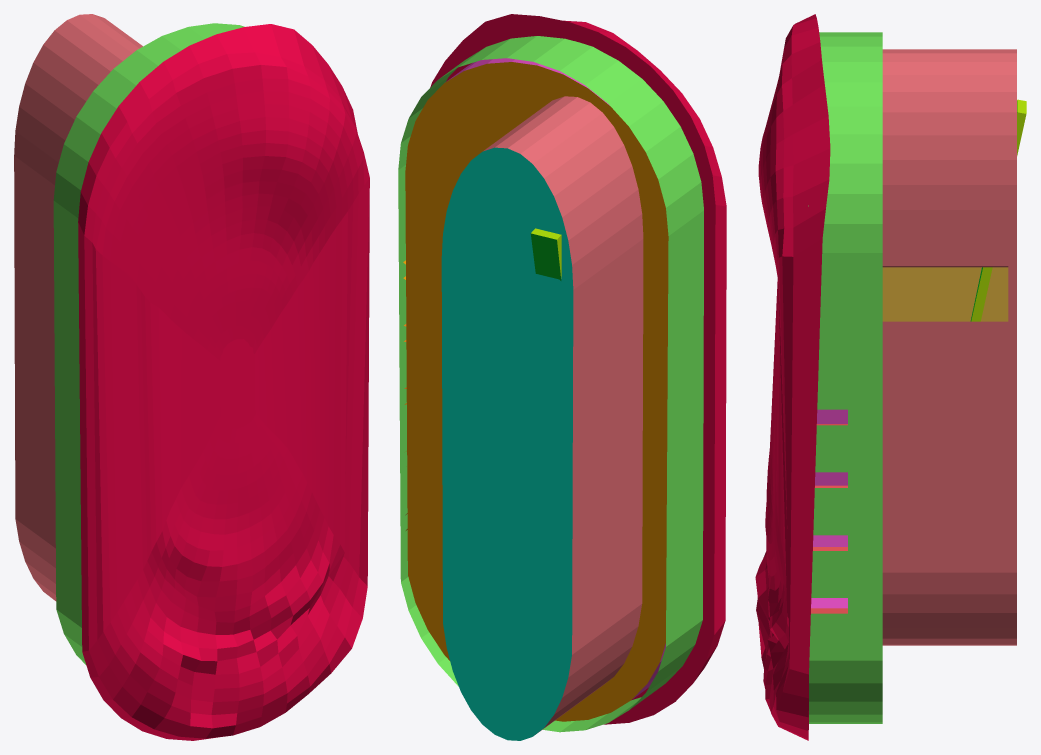
The model's file is casa32.fbx.
The picture shows the model from 3 angles, left to right: view 1: azimuth 30°, elevation 25°; view 2: azimuth 150°, elevation 25°; view 3: azimuth 270°, elevation 25°; orthographic projection.
Parts seen in each view (by area): view 1: Cylinder.001, Cylinder.003, Cylinder.002; view 2: Cylinder.003, Cylinder.002, Cylinder.001, Cube; view 3: Cylinder.003, Cylinder.002, Cylinder.001, Cube.
Part boxes in pixels (x1,y1,x2,y2): Cylinder.001: (78,24,369,740); Cylinder.003: (14,14,142,601); Cylinder.002: (53,23,244,664); Cylinder.003: (441,96,643,740); Cylinder.002: (398,36,703,732); Cylinder.001: (430,14,726,724); Cube: (530,228,561,280); Cylinder.003: (882,49,1016,645); Cylinder.002: (808,32,882,723); Cylinder.001: (755,14,830,740); Cube: (970,99,1026,321).
Size of the model in its own units: 507 by 1176 by 414.
